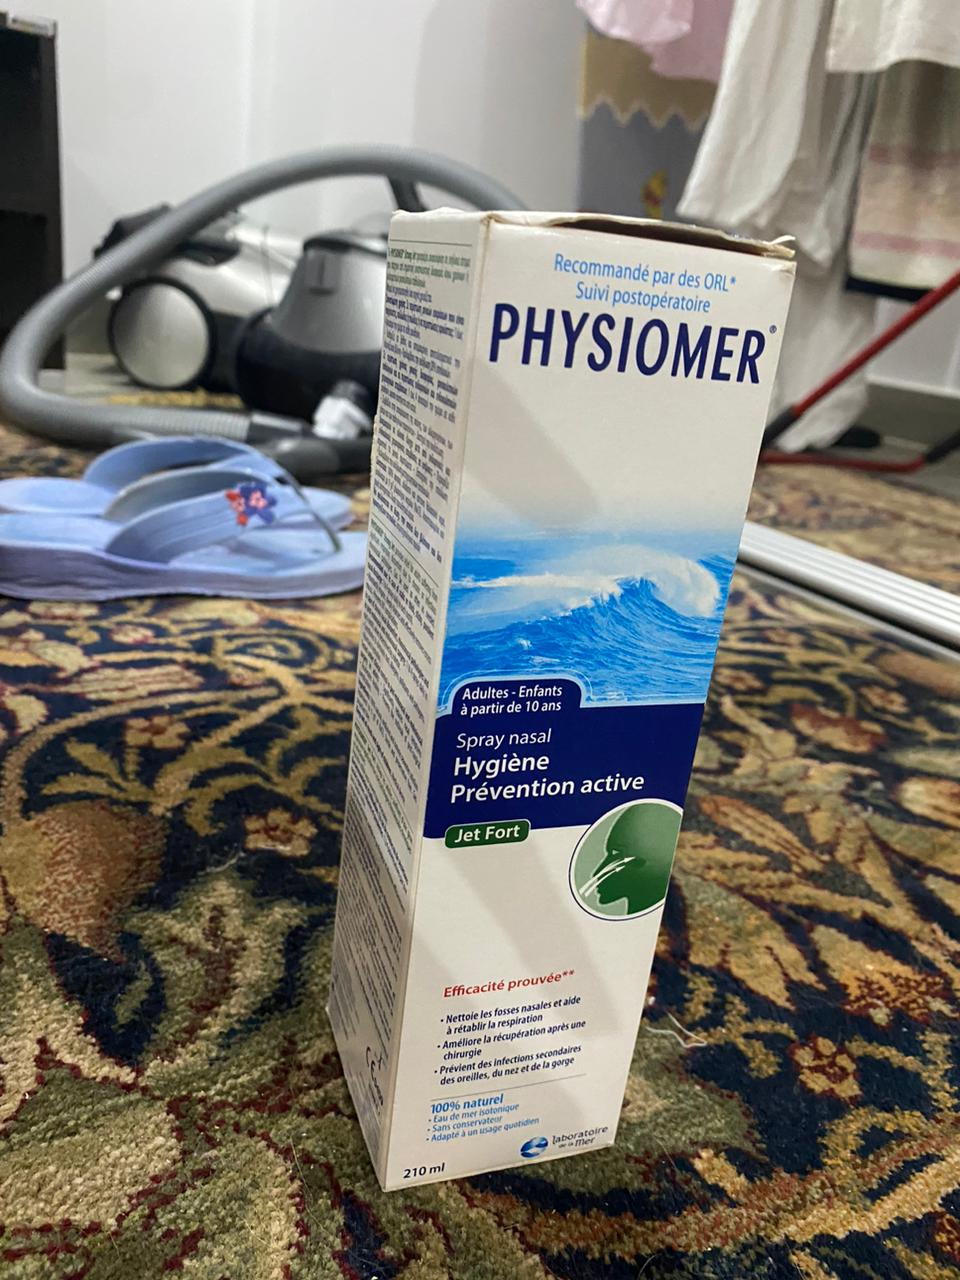Physiomer: (323, 205, 775, 1193)
